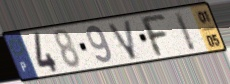4: (33, 30, 59, 75)
8: (53, 28, 82, 71)
9: (85, 24, 114, 66)
F: (137, 13, 170, 59)
I: (172, 10, 199, 53)
V: (105, 18, 139, 62)
